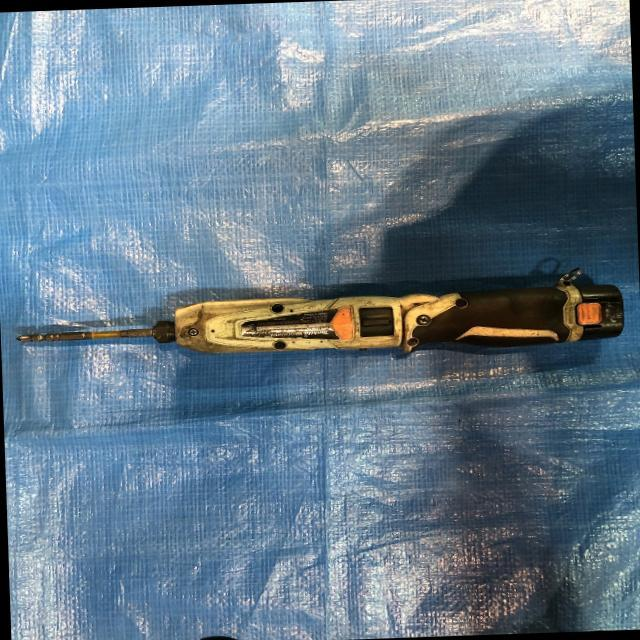screwdriver: (11, 268, 627, 372)
